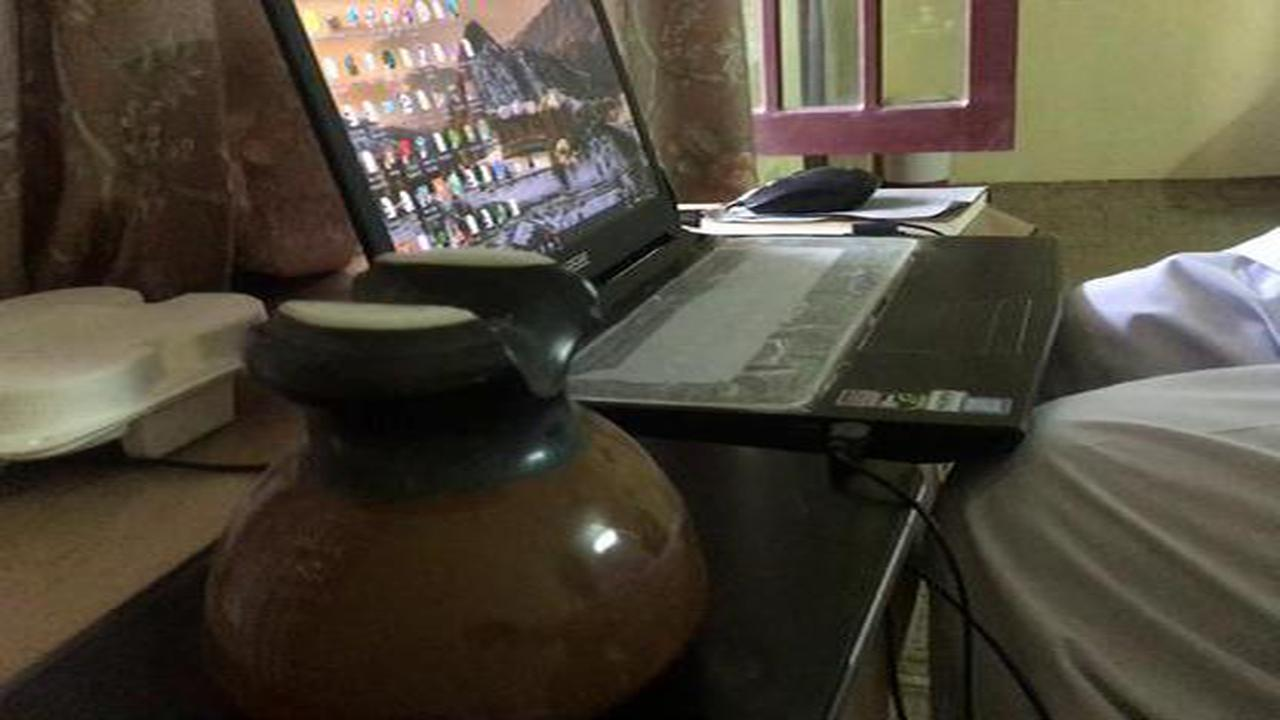insulator_pin: (176, 232, 736, 705)
